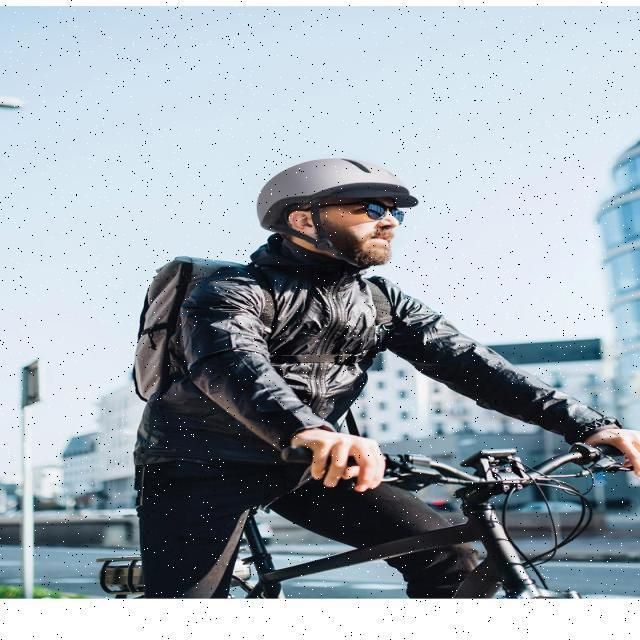helmet: (258, 158, 424, 270)
